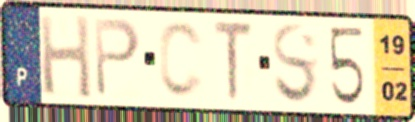5: (326, 24, 367, 108)
C: (157, 18, 207, 102)
H: (36, 12, 95, 102)
P: (91, 16, 143, 100)
S: (269, 21, 320, 108)
T: (212, 18, 256, 106)
